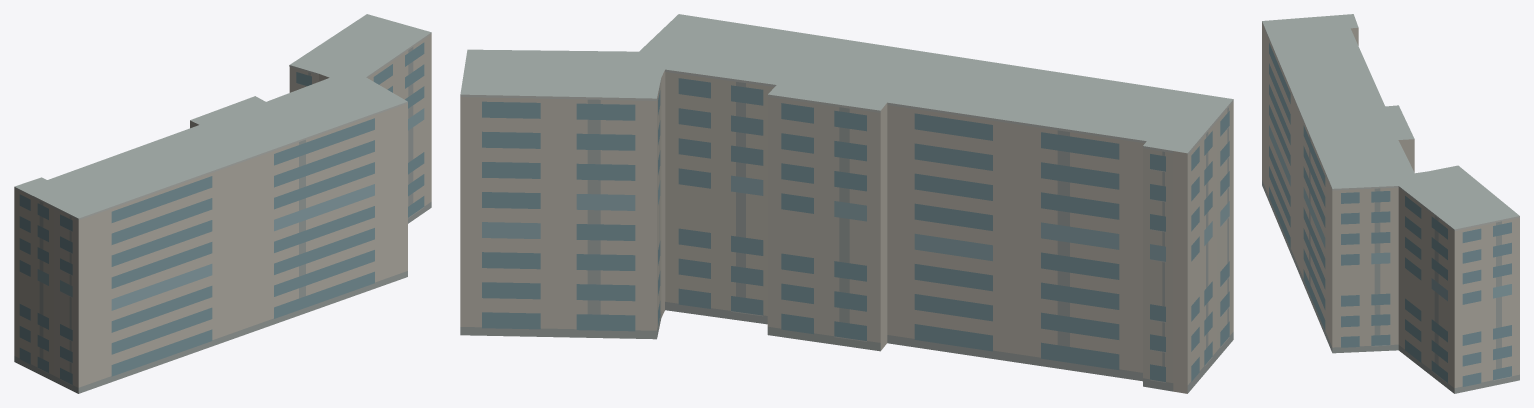
The model's file is survey-upis-32741548.glb.
3 views of the same model, side by side, from view 1: azimuth 30°, elevation 25°; view 2: azimuth 150°, elevation 25°; view 3: azimuth 270°, elevation 25° (orthographic). The views are drawn at different scales.
Parts seen in each view (by area): view 1: survey-upis-32741548.tmp; view 2: survey-upis-32741548.tmp; view 3: survey-upis-32741548.tmp.
Boxes of the visible parts, left/top/right/bottom form: survey-upis-32741548.tmp: left=14, top=14, right=431, bottom=393; survey-upis-32741548.tmp: left=460, top=14, right=1233, bottom=393; survey-upis-32741548.tmp: left=1262, top=14, right=1519, bottom=393.
Size of the model in its own units: 68.61 by 24.4 by 34.69.
